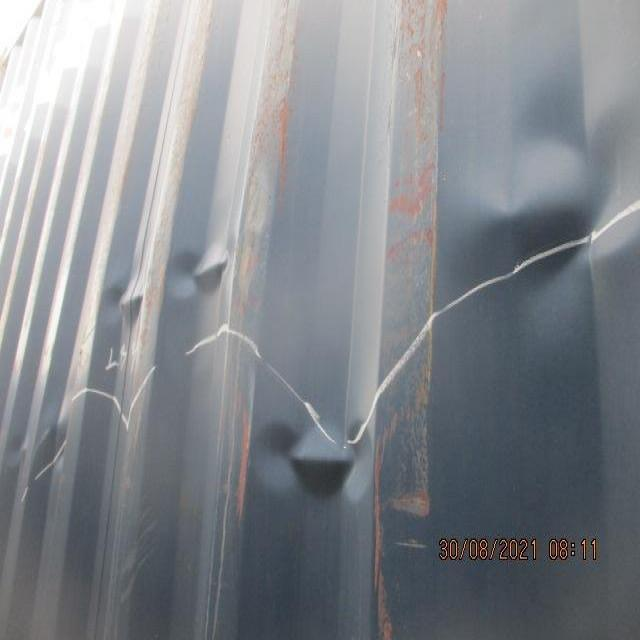Dent: (18, 96, 635, 528)
